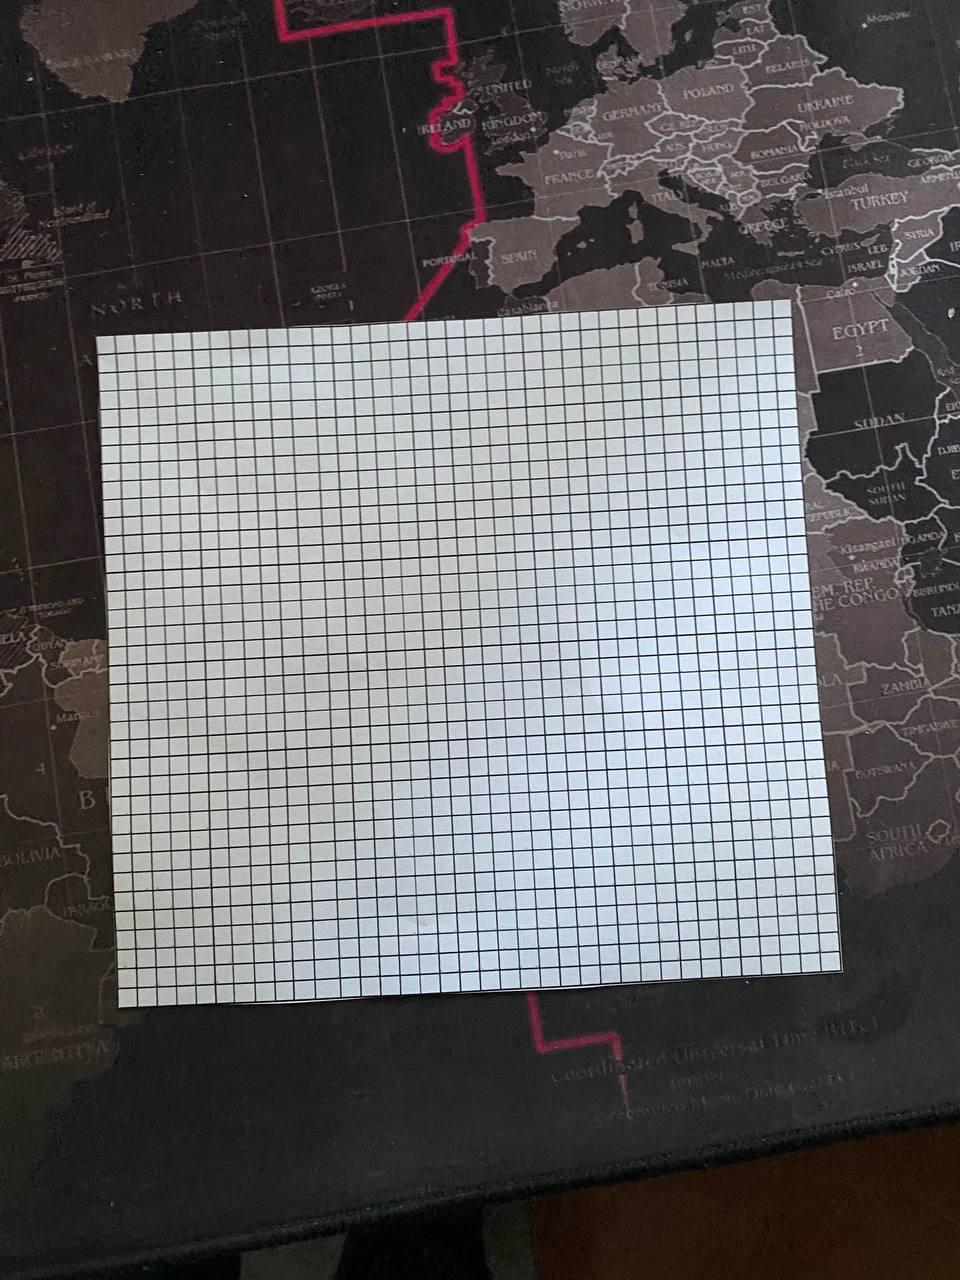grid: (84, 285, 851, 1022)
